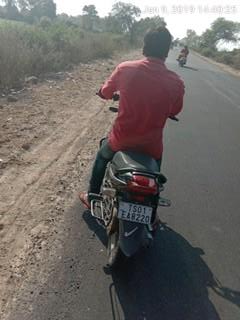plate: (116, 200, 156, 225)
